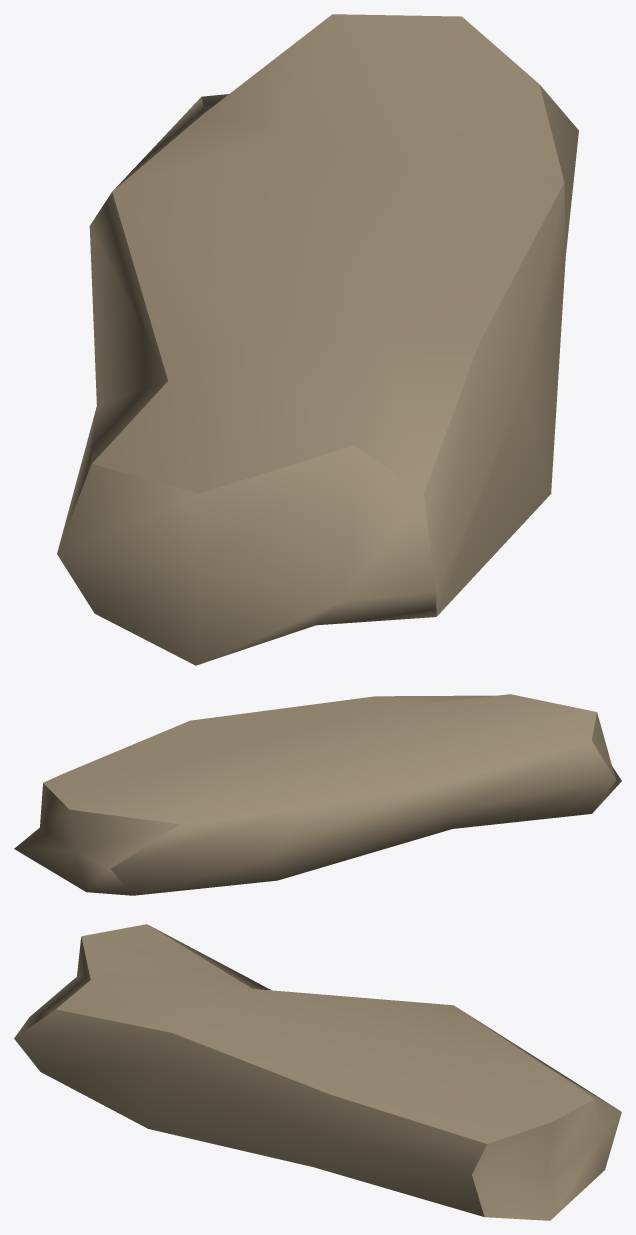
Rendered from rocks_slab_sml.fbx.
3 renders of one model, top to bottom at view 1: azimuth 30°, elevation 25°; view 2: azimuth 150°, elevation 25°; view 3: azimuth 270°, elevation 25°, orthographic. The views are drawn at different scales.
Parts seen in each view (by area): view 1: rocks_slab_sml; view 2: rocks_slab_sml; view 3: rocks_slab_sml.
Boxes of the visible parts, x1,y1,x2,y2 form: rocks_slab_sml: (57, 14, 578, 665); rocks_slab_sml: (14, 694, 621, 895); rocks_slab_sml: (14, 924, 621, 1220).
Size of the model in its own units: 37.42 by 7.24 by 42.35.
